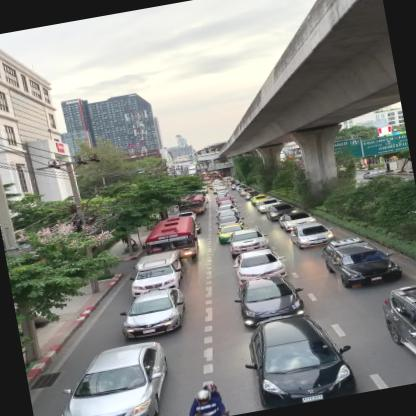bus: (145, 214, 202, 270)
car: (238, 305, 358, 410), (52, 340, 179, 415), (324, 230, 402, 290), (233, 270, 310, 328), (114, 286, 188, 341), (124, 249, 184, 298), (228, 245, 290, 283), (289, 219, 335, 250), (226, 224, 270, 254), (275, 209, 316, 232), (216, 222, 249, 244), (264, 200, 296, 221)
motorcycle: (177, 381, 226, 415)
